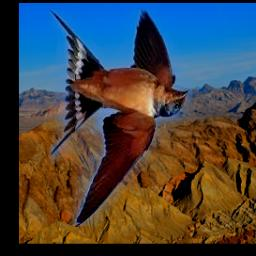Swallow: (50, 9, 192, 226)
